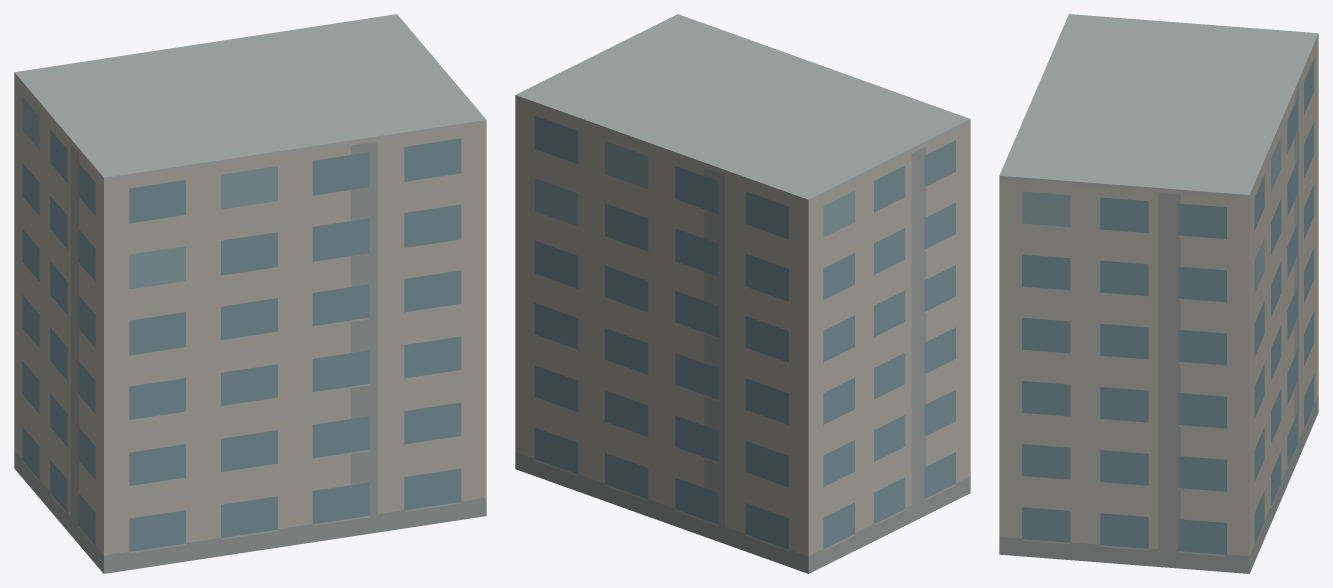
Rendered from survey-upis-32543981.glb.
3 views of the same model, side by side, from view 1: azimuth 30°, elevation 25°; view 2: azimuth 150°, elevation 25°; view 3: azimuth 270°, elevation 25° (orthographic). The views are drawn at different scales.
Parts seen in each view (by area): view 1: survey-upis-32543981.tmp; view 2: survey-upis-32543981.tmp; view 3: survey-upis-32543981.tmp.
Boxes of the visible parts, <box> form: survey-upis-32543981.tmp: <box>14,14,486,573</box>; survey-upis-32543981.tmp: <box>515,14,970,573</box>; survey-upis-32543981.tmp: <box>999,14,1318,573</box>.
Bounding box in the file's own units: 18.75 × 18.3 × 13.99.
